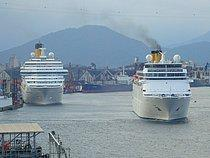Ship: (129, 46, 195, 125), (18, 38, 69, 108)
